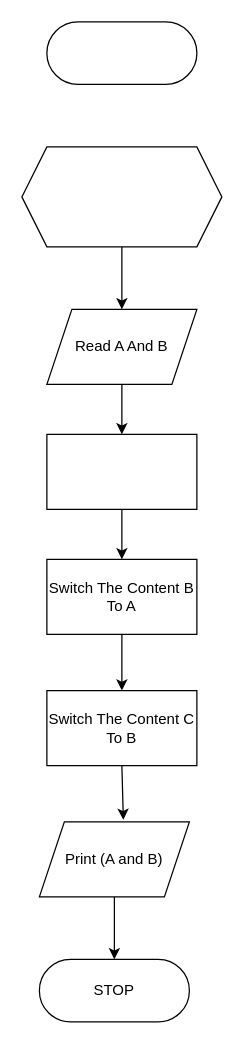
The diagram is 244 pixels wide and 1044 high, and some of its shapes have lost their labels. The box of each missing label's shape, as (x1, y1, x2, y2) in pixels:
Initialize Variable A = 10, B = 5 And C = null: (21, 146, 222, 247)
START: (46, 21, 197, 84)
Switch The Content A To C: (46, 433, 197, 509)
